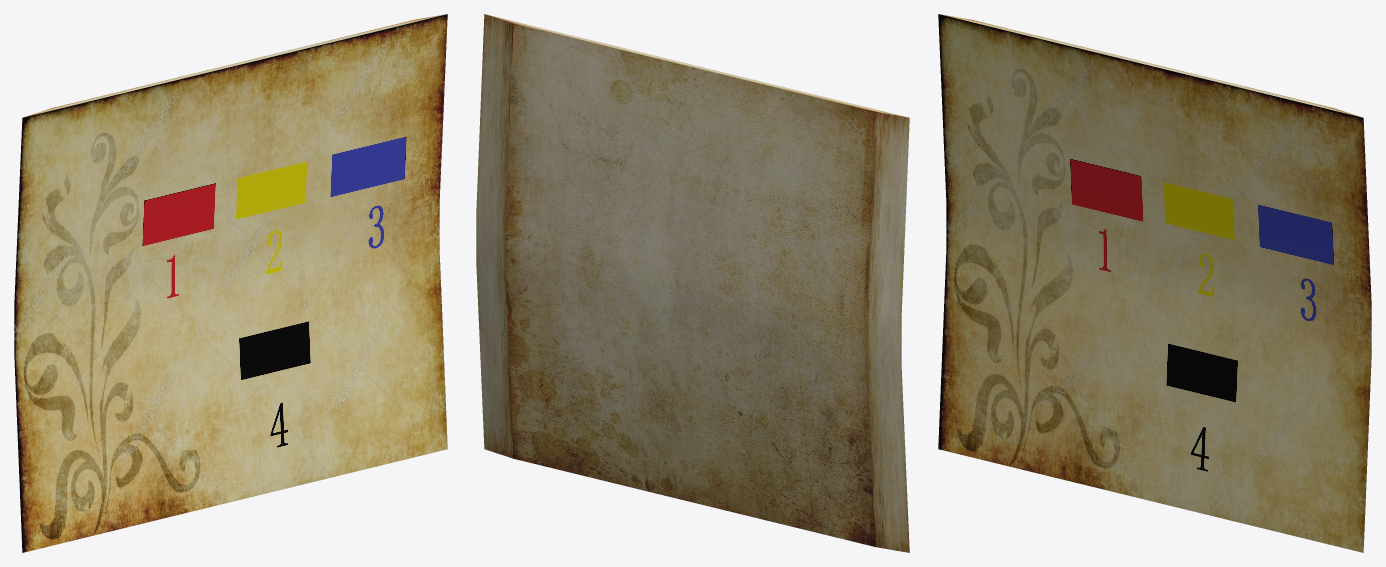
The model's file is hints.FBX.
The picture shows the model from 3 angles, left to right: view 1: azimuth 30°, elevation 25°; view 2: azimuth 150°, elevation 25°; view 3: azimuth 330°, elevation 25°; orthographic projection.
Visible parts, largest first — view 1: Box001; view 2: Box001; view 3: Box001.
Boxes of the visible parts, box(x1,y1,x2,y2) form: Box001: box(14, 14, 447, 552); Box001: box(476, 14, 909, 552); Box001: box(938, 14, 1371, 552).
Size of the model in its own units: 91.1 by 89.06 by 3.95.
